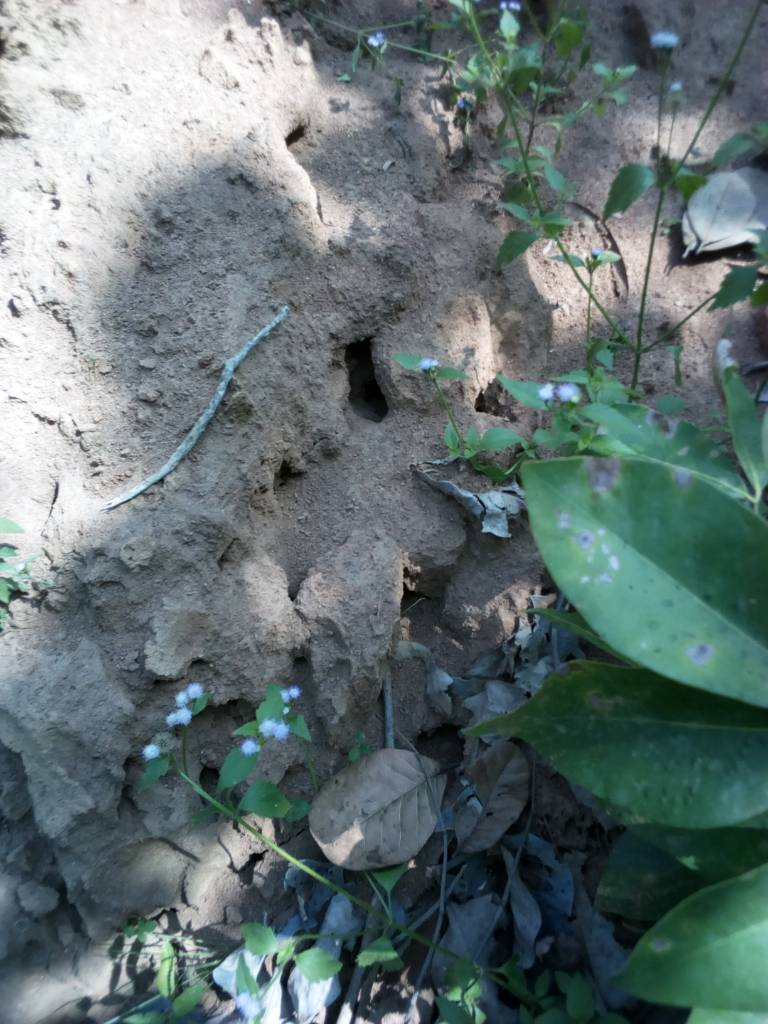Termites: (5, 3, 263, 817), (272, 49, 444, 757)
